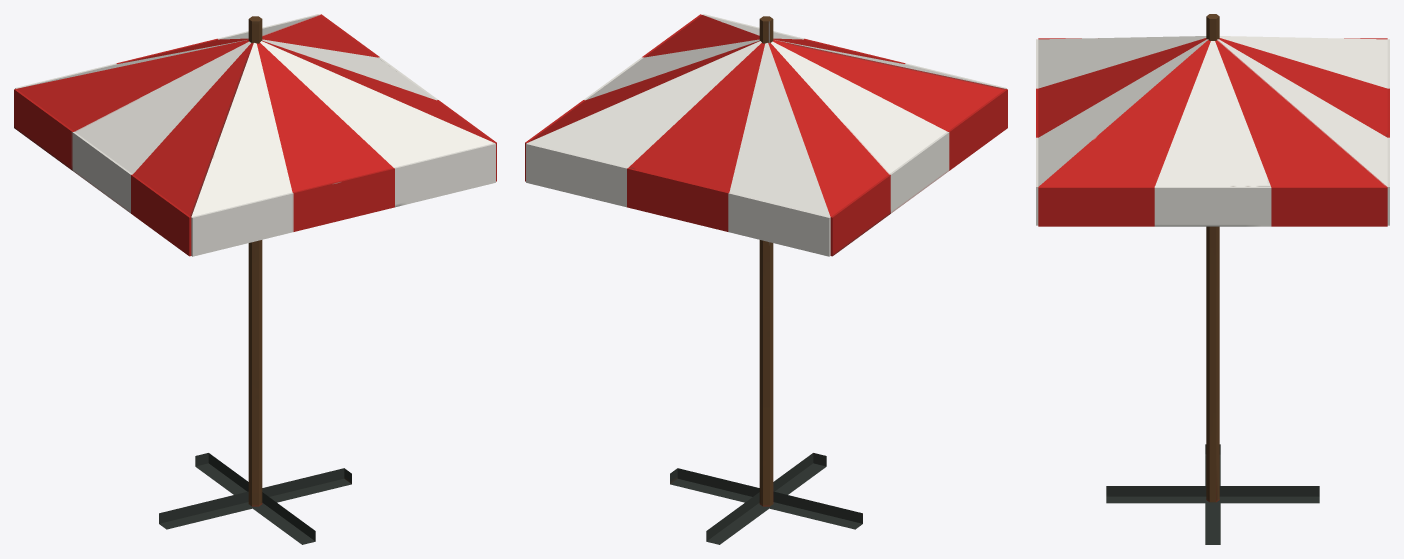
Rendered from slunecnik_ctverec_112a6746.glb.
3 renders of one model, left to right at view 1: azimuth 30°, elevation 25°; view 2: azimuth 150°, elevation 25°; view 3: azimuth 270°, elevation 25°, orthographic.
Parts seen in each view (by area): view 1: dum; view 2: dum; view 3: dum.
Part boxes in pixels (x1=…): dum: x1=14, y1=14, x2=496, y2=544; dum: x1=525, y1=14, x2=1007, y2=544; dum: x1=1036, y1=14, x2=1389, y2=544.
Size of the model in its own units: 1.82 by 2.74 by 1.82.
1 material, 1 textured.
